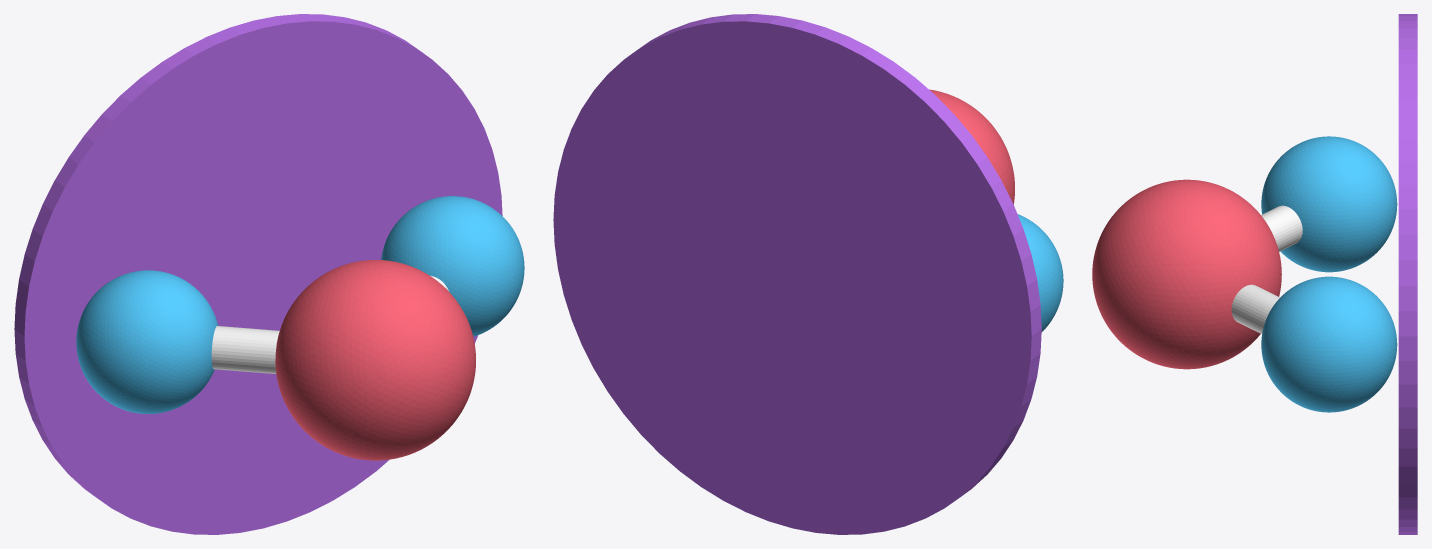
Rendered from modelo.glb.
3 renders of one model, left to right at view 1: azimuth 30°, elevation 25°; view 2: azimuth 150°, elevation 25°; view 3: azimuth 270°, elevation 25°, orthographic. The views are drawn at different scales.
Parts seen in each view (by area): view 1: Base, Oxigenio, Hidrogenio_1, Hidrogenio_2, ligacao_O_H_esquerda; view 2: Base, Hidrogenio_1, Oxigenio; view 3: Oxigenio, Hidrogenio_2, Hidrogenio_1, Base, ligacao_O_H_direita, ligacao_O_H_esquerda.
Boxes of the visible parts, x1=… form: Base: x1=14, y1=14, x2=502, y2=534; Oxigenio: x1=275, y1=260, x2=475, y2=460; Hidrogenio_1: x1=76, y1=270, x2=218, y2=413; Hidrogenio_2: x1=381, y1=196, x2=524, y2=336; ligacao_O_H_esquerda: x1=211, y1=326, x2=279, y2=373; Base: x1=553, y1=14, x2=1041, y2=534; Hidrogenio_1: x1=1017, y1=214, x2=1063, y2=331; Oxigenio: x1=929, y1=89, x2=1014, y2=204; Oxigenio: x1=1092, y1=179, x2=1281, y2=369; Hidrogenio_2: x1=1261, y1=276, x2=1397, y2=412; Hidrogenio_1: x1=1261, y1=136, x2=1397, y2=272; Base: x1=1398, y1=14, x2=1417, y2=534; ligacao_O_H_direita: x1=1231, y1=284, x2=1279, y2=333; ligacao_O_H_esquerda: x1=1261, y1=205, x2=1302, y2=251.
Size of the model in its own units: 0.33 by 0.33 by 0.206.
